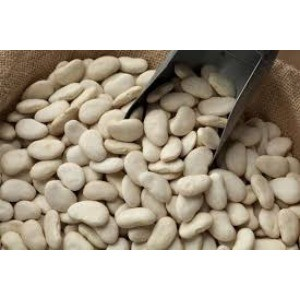beans_brain food: (46, 117, 198, 219)
